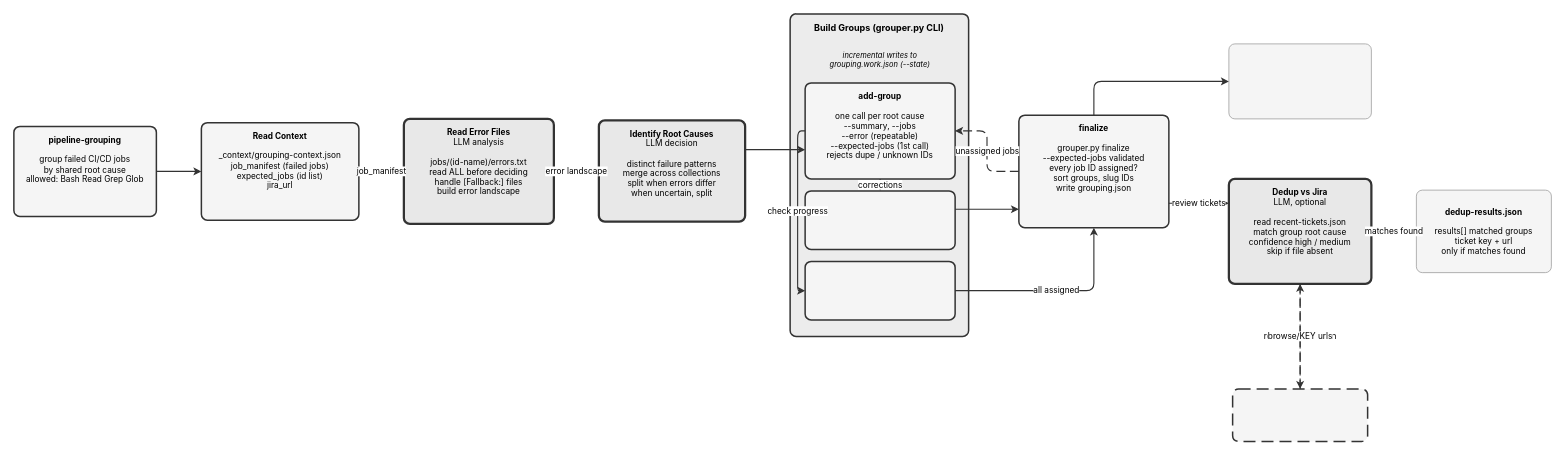
This 1565x455 diagram has some shape labels left out. Here are the shapes that lost their labels. From the top down, the centre of each, then its label:
At (1299,81): "grouping.json groups[] with id, summary job_ids, error_messages".
At (880,220): "add-job straggler corrections --group, --job, --error".
At (880,290): "status view groups list unassigned jobs".
At (1300,415): "Jira recent-tickets.json".
